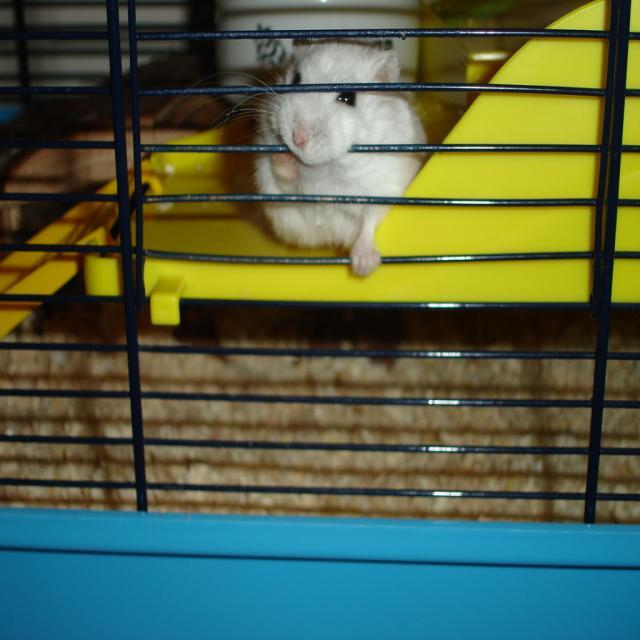rat: (250, 28, 425, 280)
